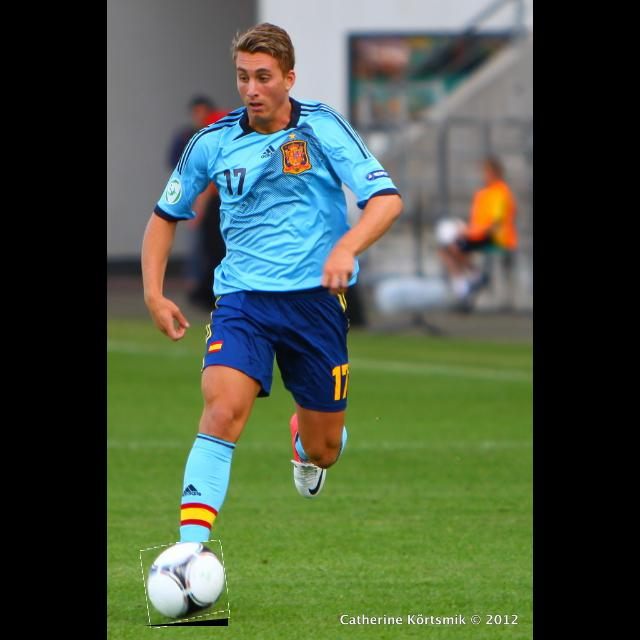Football: (142, 542, 228, 626)
